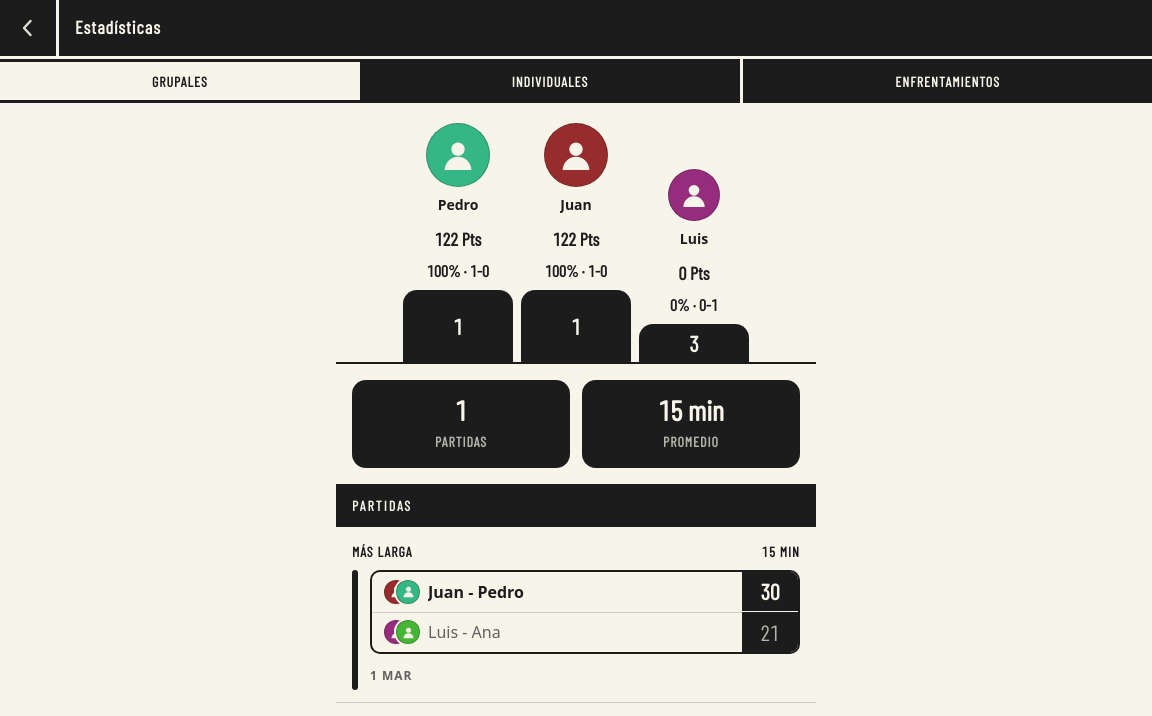
Scenario: GroupStatsScreen › cambia a la pestaña de estadísticas individuales
Click the tab "Individuales".
click(550, 81)  # box [360,59,740,103]
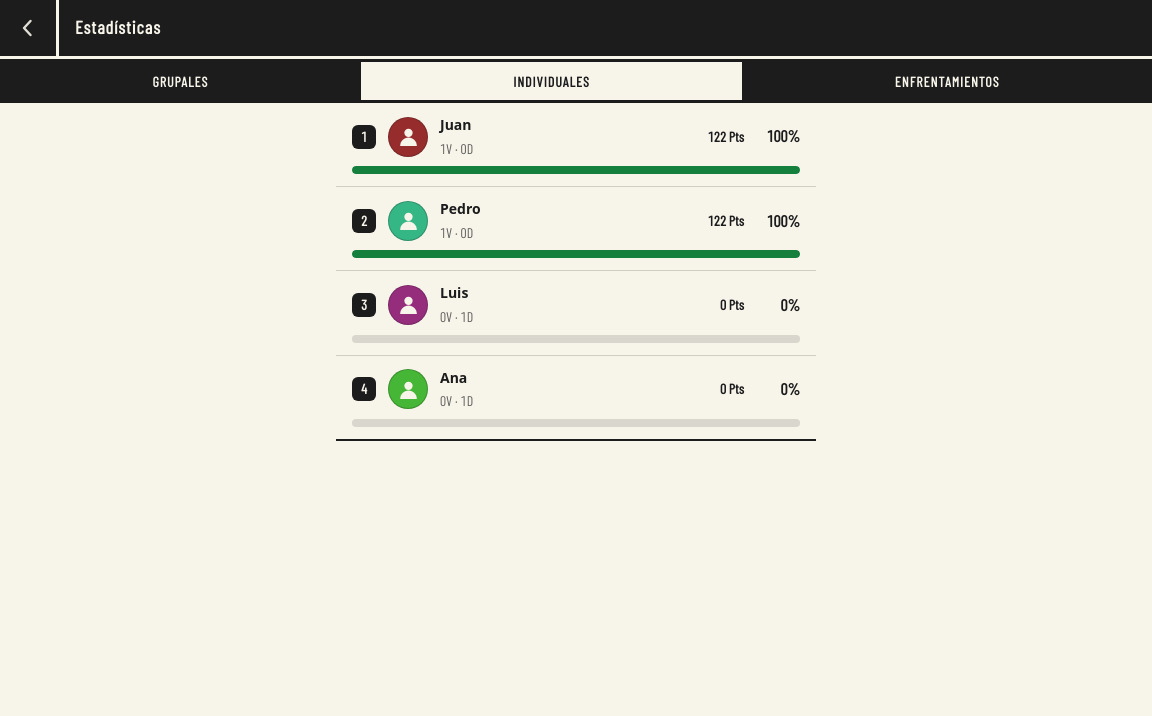
Expected: the text "Juan" is shown, [440,115,472,134]
Expected: the link "1 Juan 1V · 0D 122 Pts 100%" is shown, [336,103,816,186]
